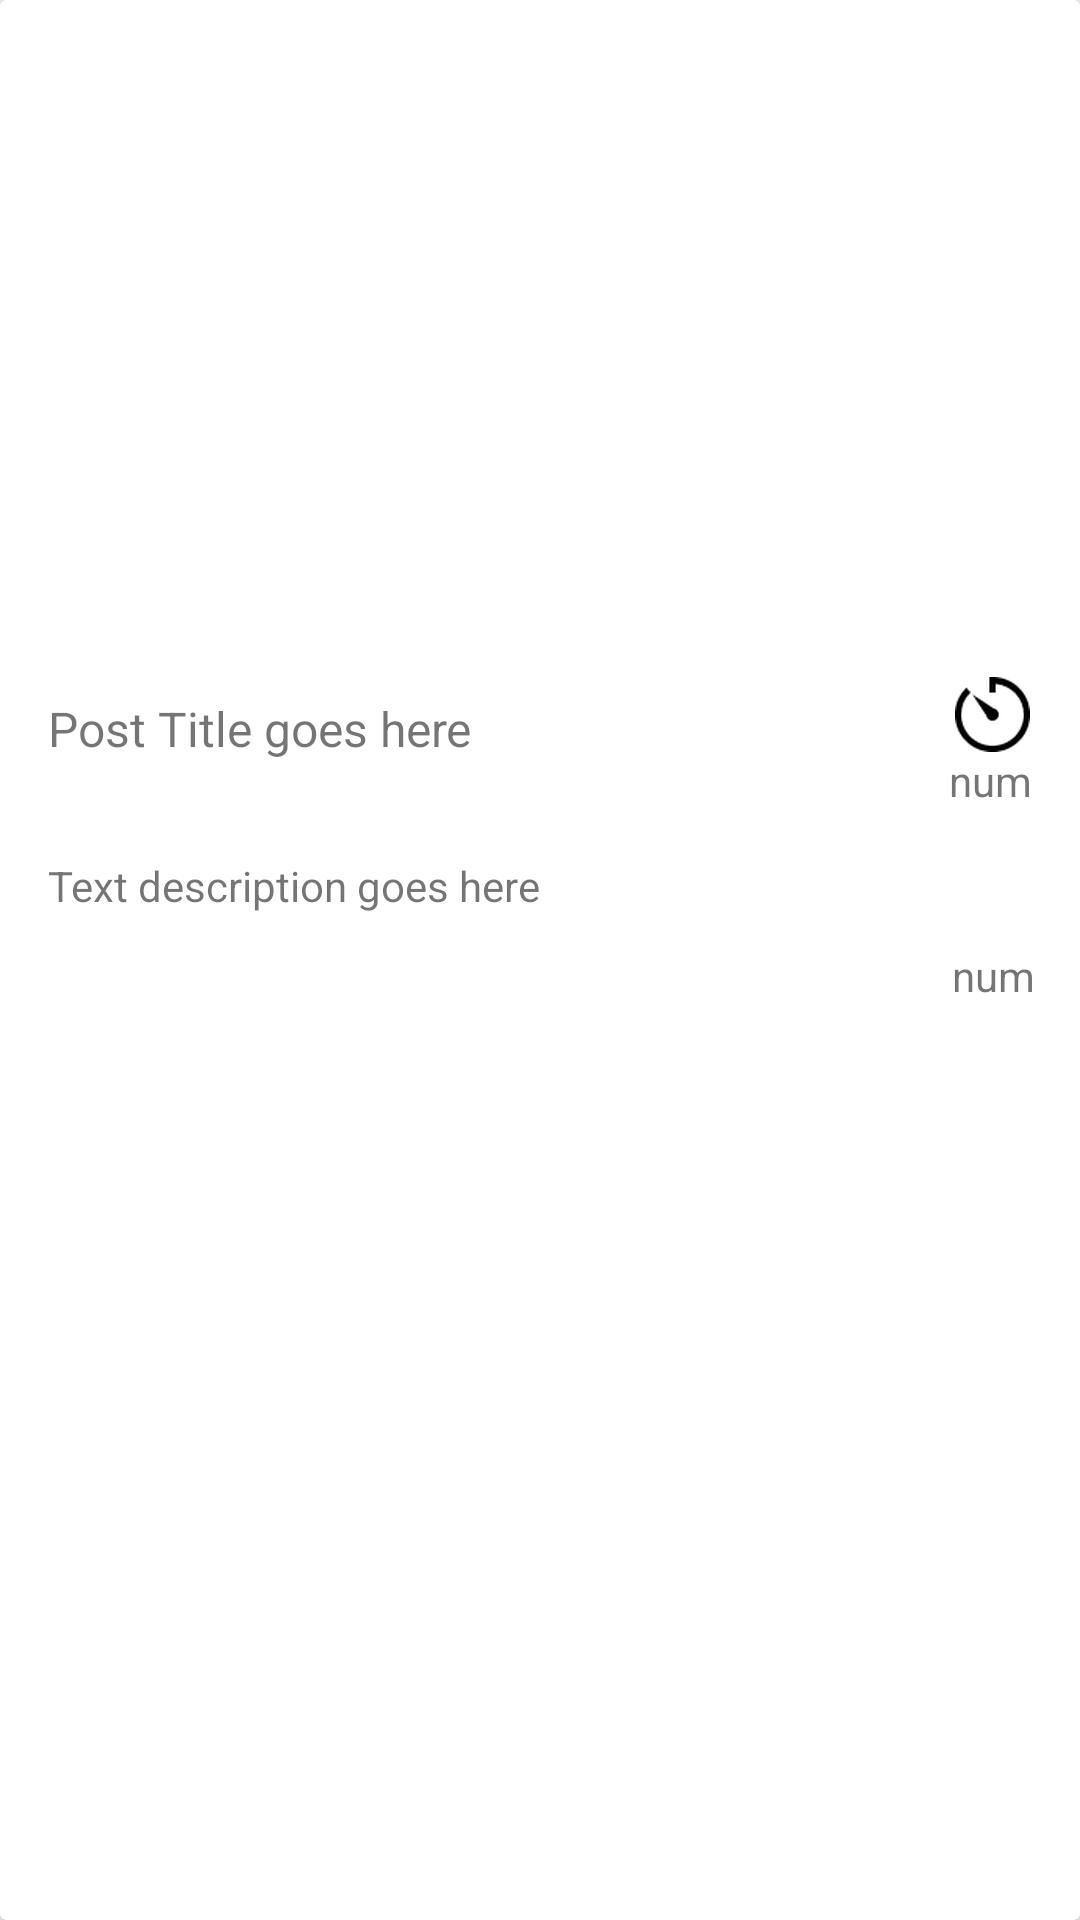

Where icons sit on this 1080*1920 app screen, as (x1, y1, x2, y2):
timer: (955, 677, 1030, 752)
